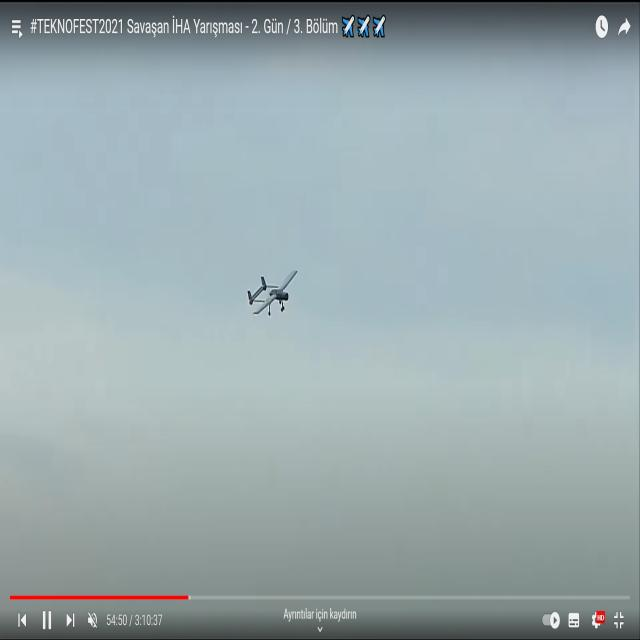iha: (246, 267, 299, 319)
